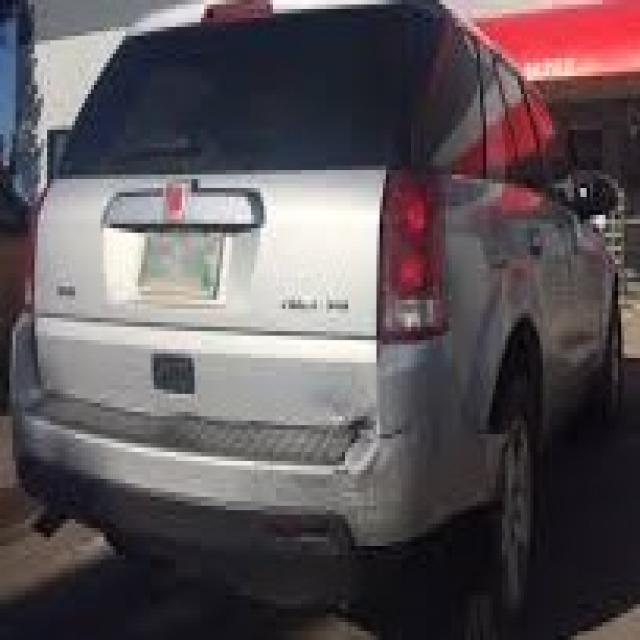minor: (313, 387, 431, 500)
